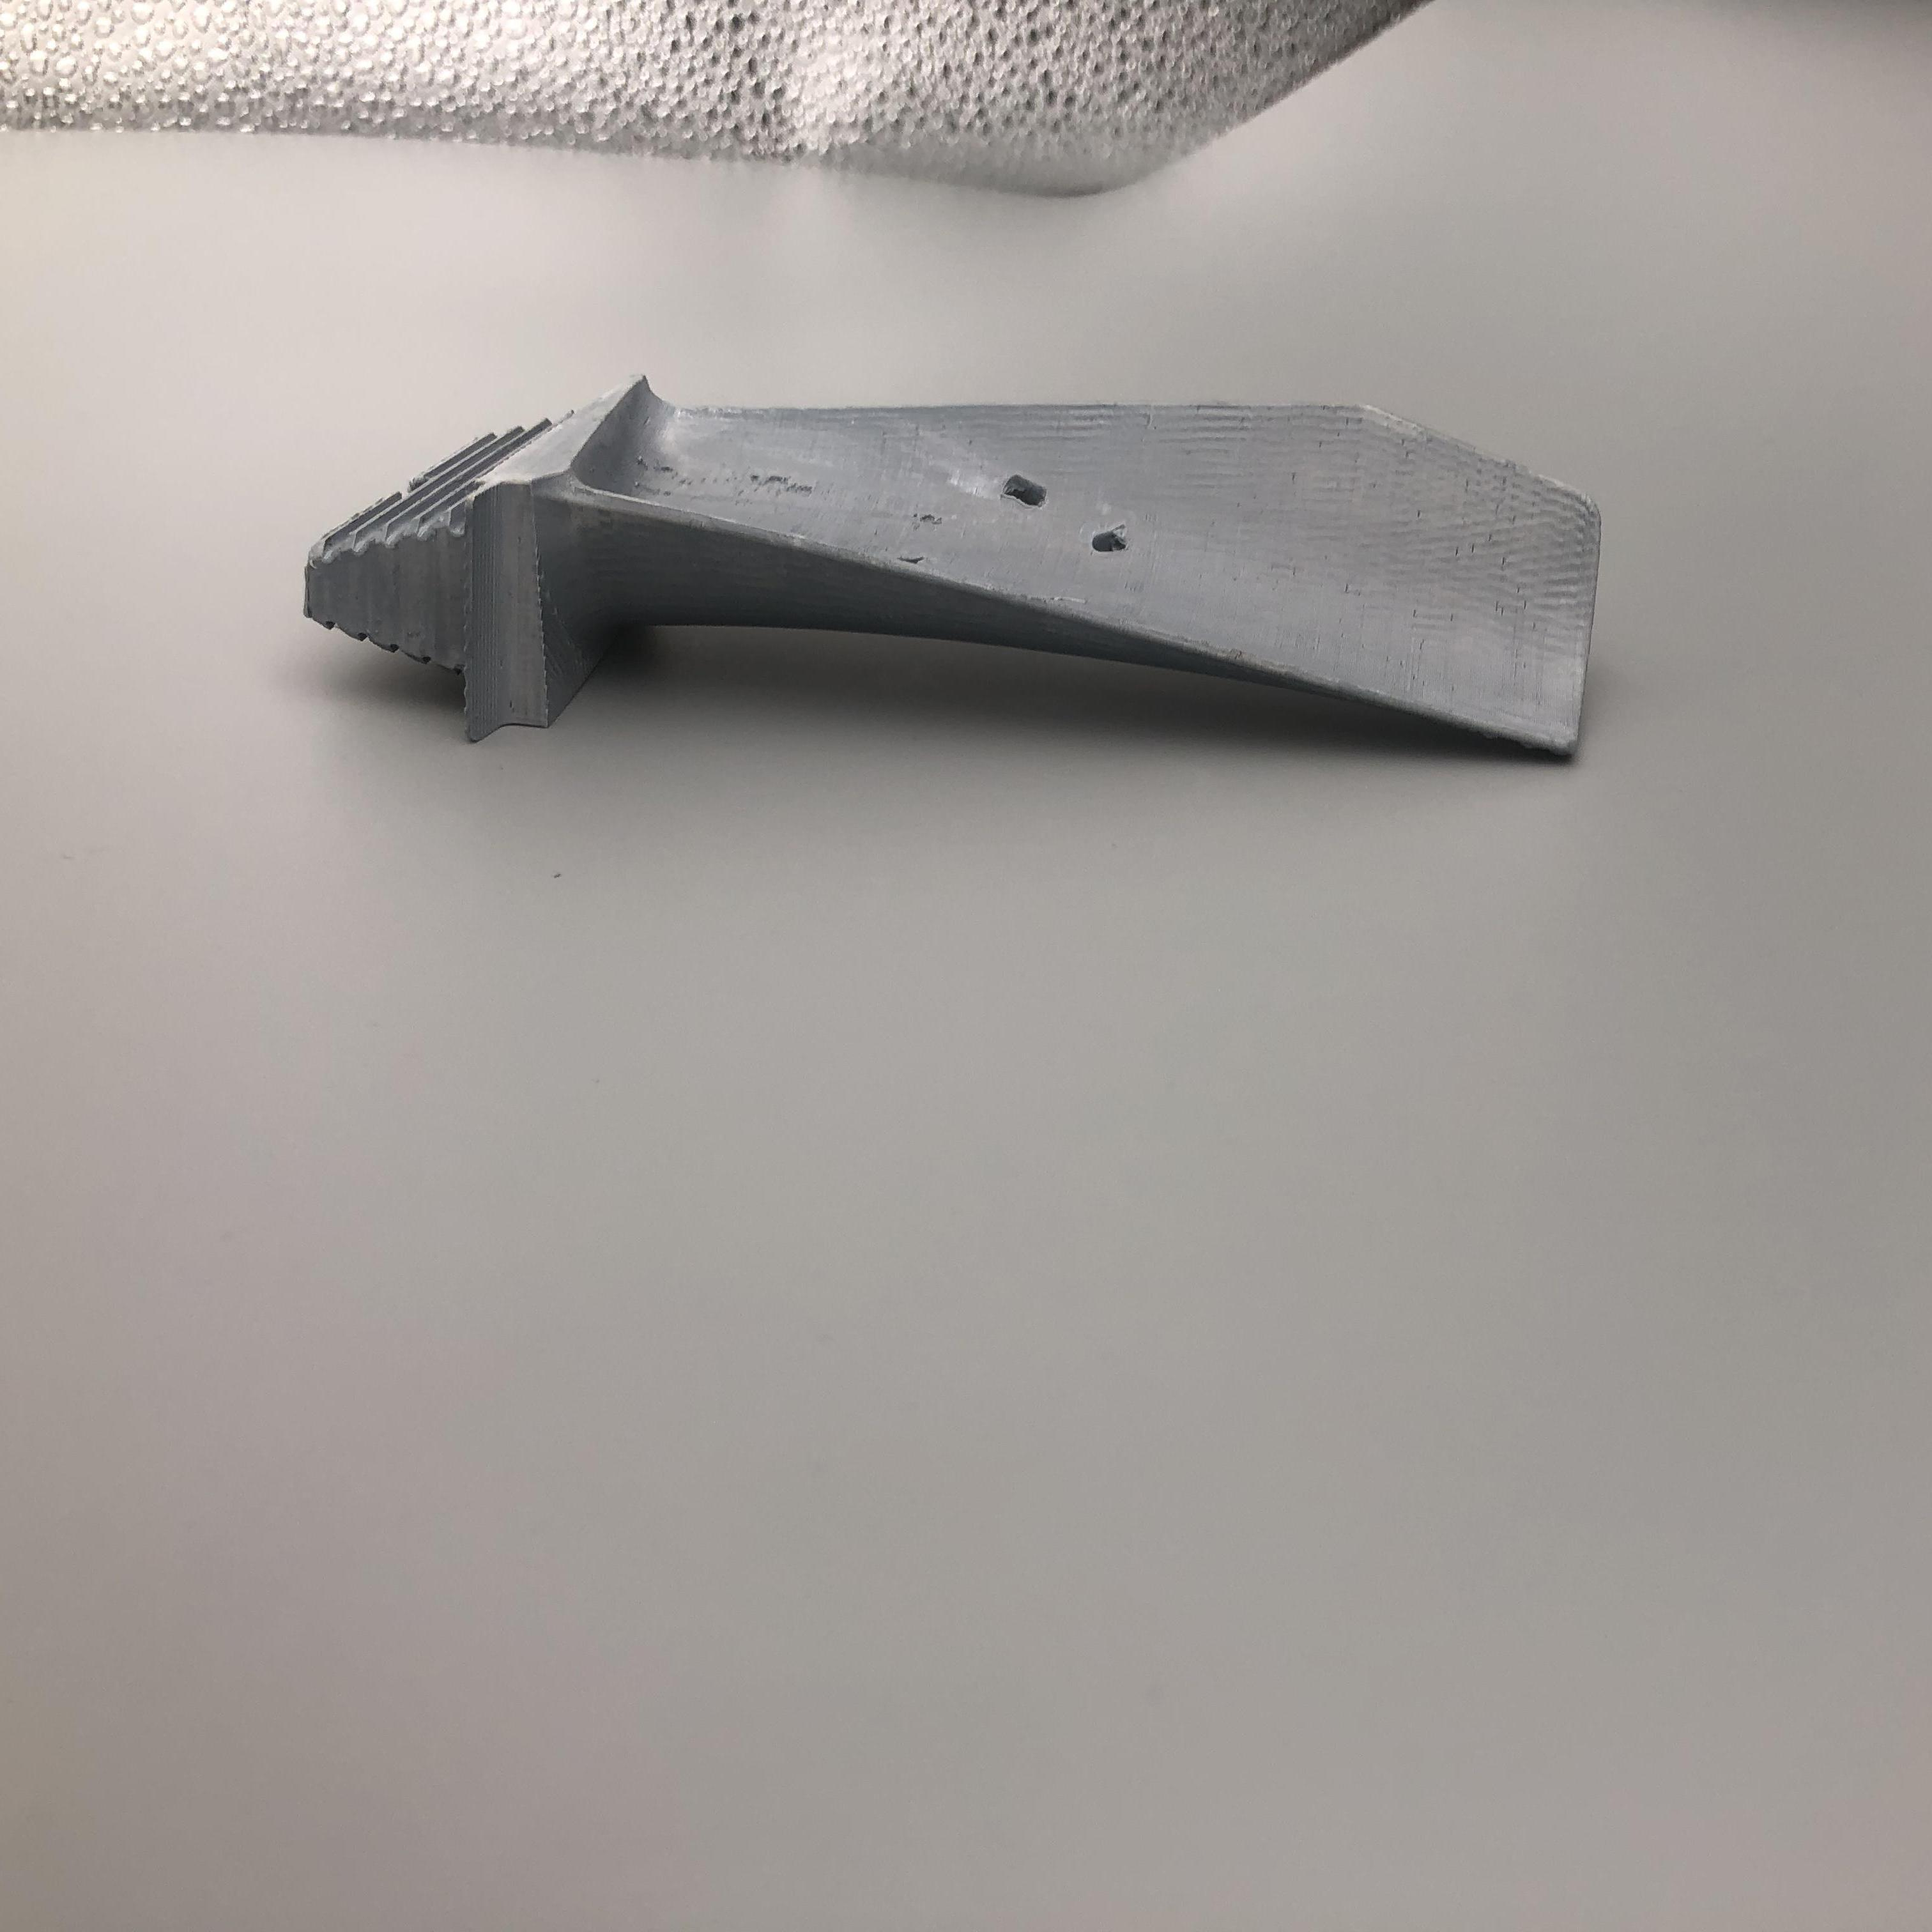breakdown: (906, 469, 1148, 573)
